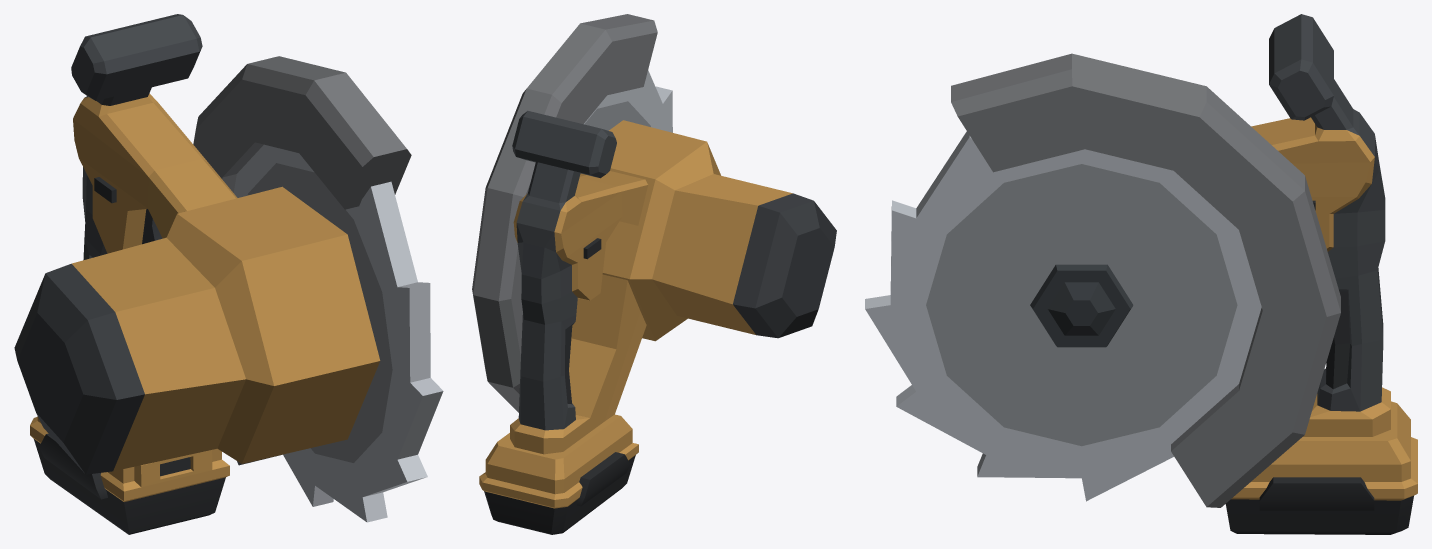
The model's file is SM_Tool_Circular_Saw_01.fbx.
3 views of the same model, side by side, from view 1: azimuth 30°, elevation 25°; view 2: azimuth 150°, elevation 25°; view 3: azimuth 270°, elevation 25° (orthographic). The views are drawn at different scales.
Visible parts, largest first — view 1: SM_Tool_Circular_Saw_01, SM_Tool_Circular_Saw_01_Blade, SM_Tool_Circular_Saw_01_Battery; view 2: SM_Tool_Circular_Saw_01, SM_Tool_Circular_Saw_01_Battery, SM_Tool_Circular_Saw_01_Blade; view 3: SM_Tool_Circular_Saw_01, SM_Tool_Circular_Saw_01_Blade, SM_Tool_Circular_Saw_01_Battery.
Boxes of the visible parts, box(x1,y1,x2,y2) form: SM_Tool_Circular_Saw_01: box(14, 14, 411, 483); SM_Tool_Circular_Saw_01_Blade: box(233, 144, 443, 522); SM_Tool_Circular_Saw_01_Battery: box(30, 416, 229, 534); SM_Tool_Circular_Saw_01: box(472, 14, 836, 494); SM_Tool_Circular_Saw_01_Battery: box(479, 443, 638, 534); SM_Tool_Circular_Saw_01_Blade: box(584, 70, 672, 132); SM_Tool_Circular_Saw_01: box(951, 14, 1410, 507); SM_Tool_Circular_Saw_01_Blade: box(865, 131, 1261, 501); SM_Tool_Circular_Saw_01_Battery: box(1225, 437, 1417, 534).
Bounding box in the file's own units: 30.73 × 47.65 × 48.56.
